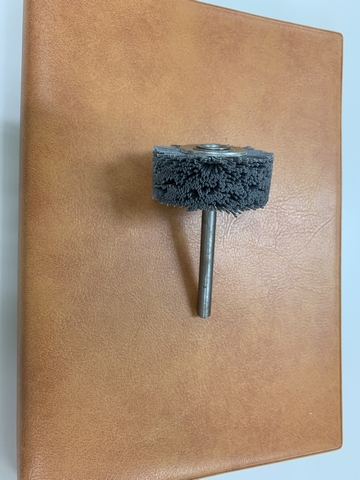Wheel Brush: (134, 91, 308, 391), (140, 131, 278, 323), (152, 140, 265, 319)
